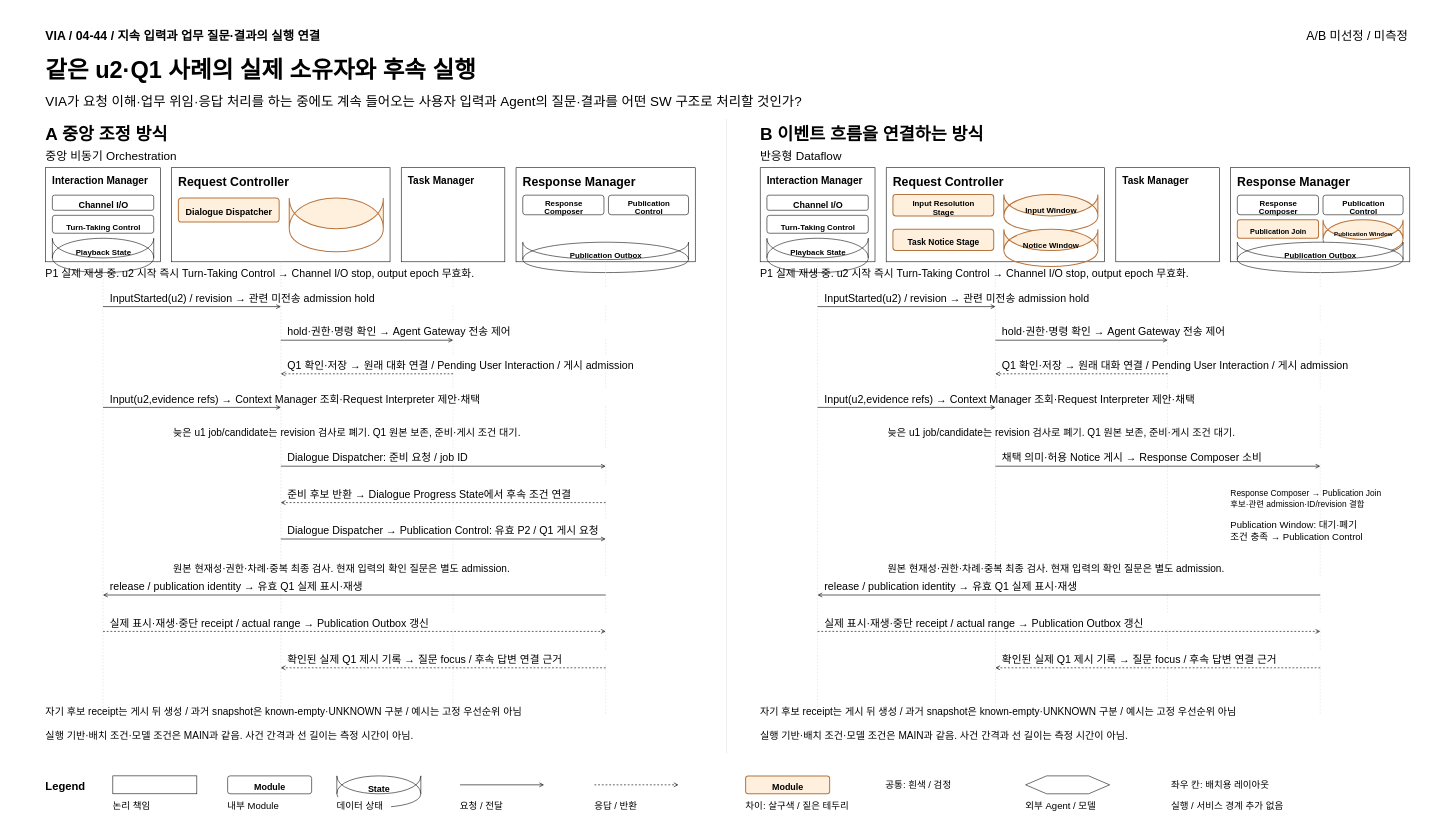
This 1453x825 diagram has some shape labels left out. Here are the shapes that lost their labels. From the top down, the centre of each, then its label:
(x=336, y=213): Dialogue Progress State
(x=154, y=784): Component
(x=1067, y=784): Dependency
